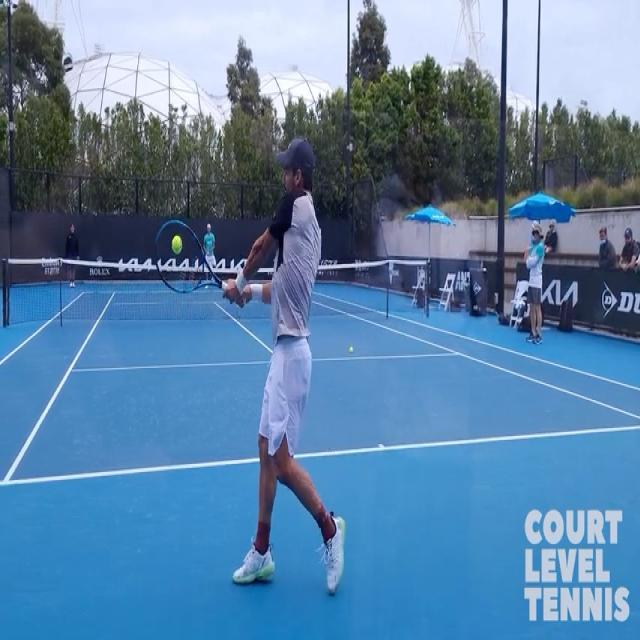backhand-stroke: (153, 143, 357, 618)
